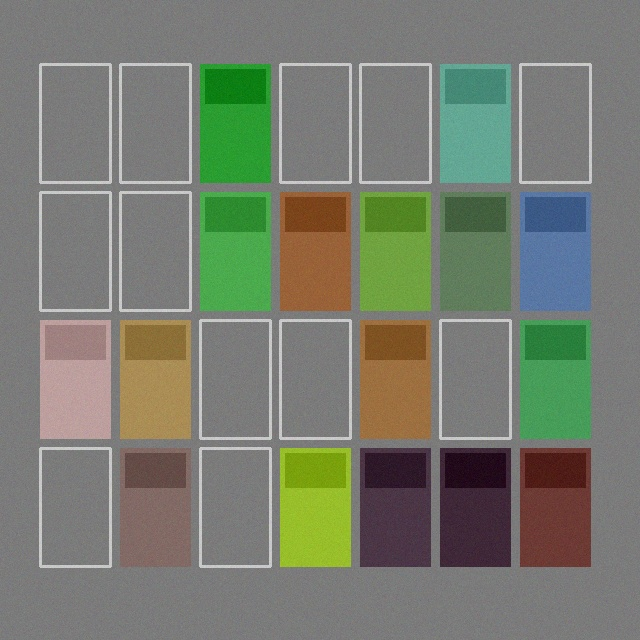space-empty: (40, 64, 110, 182), (120, 64, 190, 182), (280, 64, 350, 182), (360, 64, 430, 182), (520, 64, 590, 182), (40, 192, 110, 310), (120, 192, 190, 310), (200, 320, 270, 438), (280, 320, 350, 438), (440, 320, 510, 438), (40, 448, 110, 566), (200, 448, 270, 566)
space-occupied: (200, 64, 270, 182), (440, 64, 510, 182), (200, 192, 270, 310), (280, 192, 350, 310), (360, 192, 430, 310), (440, 192, 510, 310), (520, 192, 590, 310), (40, 320, 110, 438), (120, 320, 190, 438), (360, 320, 430, 438), (520, 320, 590, 438), (120, 448, 190, 566), (280, 448, 350, 566), (360, 448, 430, 566), (440, 448, 510, 566), (520, 448, 590, 566)
